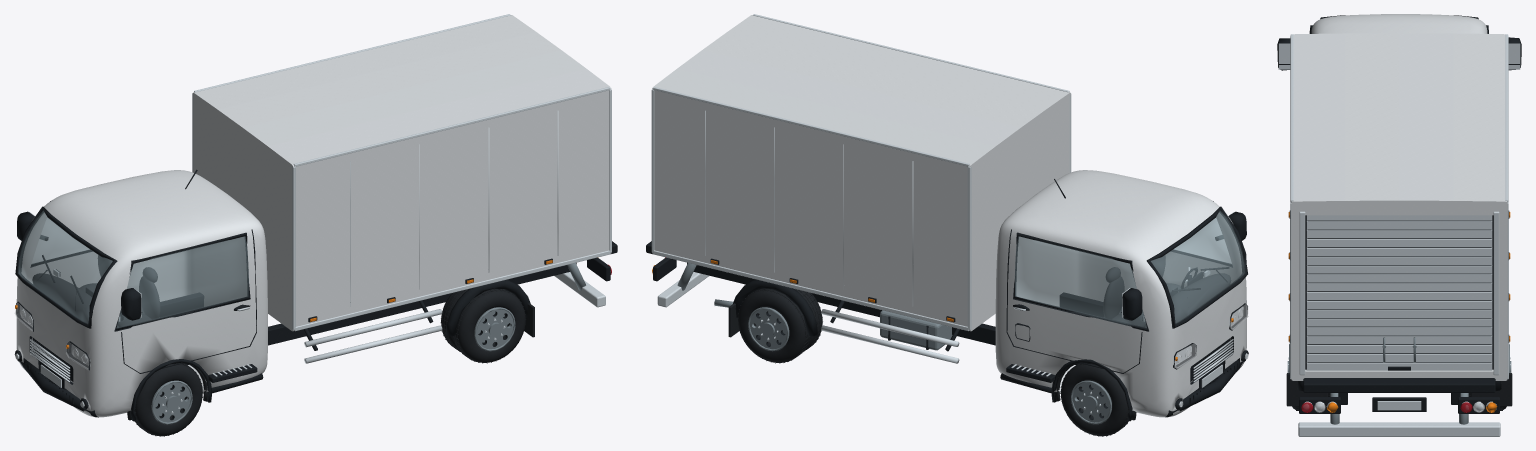
The model's file is truck.glb.
3 views of the same model, side by side, from view 1: azimuth 30°, elevation 25°; view 2: azimuth 150°, elevation 25°; view 3: azimuth 270°, elevation 25° (orthographic). The views are drawn at different scales.
Parts seen in each view (by area): view 1: Forward-control truck hollow 12-station cab, Amber side marker black base, Truck cab door window curved transparent pane 1, Air vent surround, Circumferential truck tire tread, Dished steel commercial wheel, Cabin floor, Clear foglamp cover; view 2: Forward-control truck hollow 12-station cab, Truck cab door window curved transparent pane 1, Amber side marker black base, Air vent surround, Circumferential truck tire tread, Dished steel commercial wheel, Cabin floor, Clear foglamp cover; view 3: Forward-control truck hollow 12-station cab, Air vent surround, Amber side marker black base, Circumferential truck tire tread, Dished steel commercial wheel, Amber side marker reflective lens.
Part boxes in pixels (x1,y1,x2,y2): Forward-control truck hollow 12-station cab: (16,15,611,417); Amber side marker black base: (14,169,617,421); Truck cab door window curved transparent pane 1: (18,210,248,328); Air vent surround: (15,14,611,413); Circumferential truck tire tread: (73,288,534,436); Dished steel commercial wheel: (42,263,585,424); Cabin floor: (32,255,160,327); Clear foglamp cover: (14,261,603,407); Forward-control truck hollow 12-station cab: (652,15,1246,417); Truck cab door window curved transparent pane 1: (1014,210,1244,328); Amber side marker black base: (646,179,1248,421); Air vent surround: (651,14,1248,413); Circumferential truck tire tread: (728,288,1192,436); Dished steel commercial wheel: (677,263,1221,424); Cabin floor: (1103,255,1231,327); Clear foglamp cover: (659,261,1248,407); Forward-control truck hollow 12-station cab: (1291,14,1507,380); Air vent surround: (1278,34,1520,436); Amber side marker black base: (1277,15,1521,413); Circumferential truck tire tread: (1286,373,1512,410); Dished steel commercial wheel: (1287,337,1511,424); Amber side marker reflective lens: (1288,212,1510,412).
Size of the model in its own units: 7.39 by 3.31 by 2.73.
Materials: 10 (10 with a texture image).
